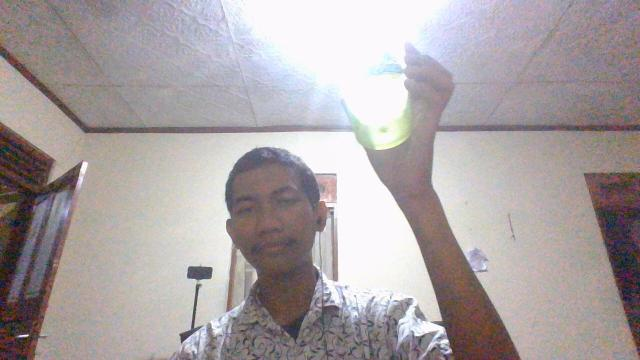botol-hijau: (338, 26, 424, 147)
